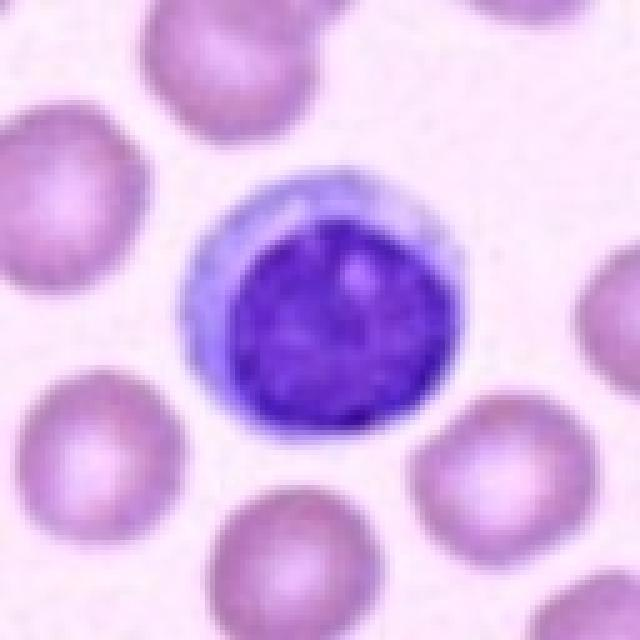lympho: (180, 160, 469, 450)
